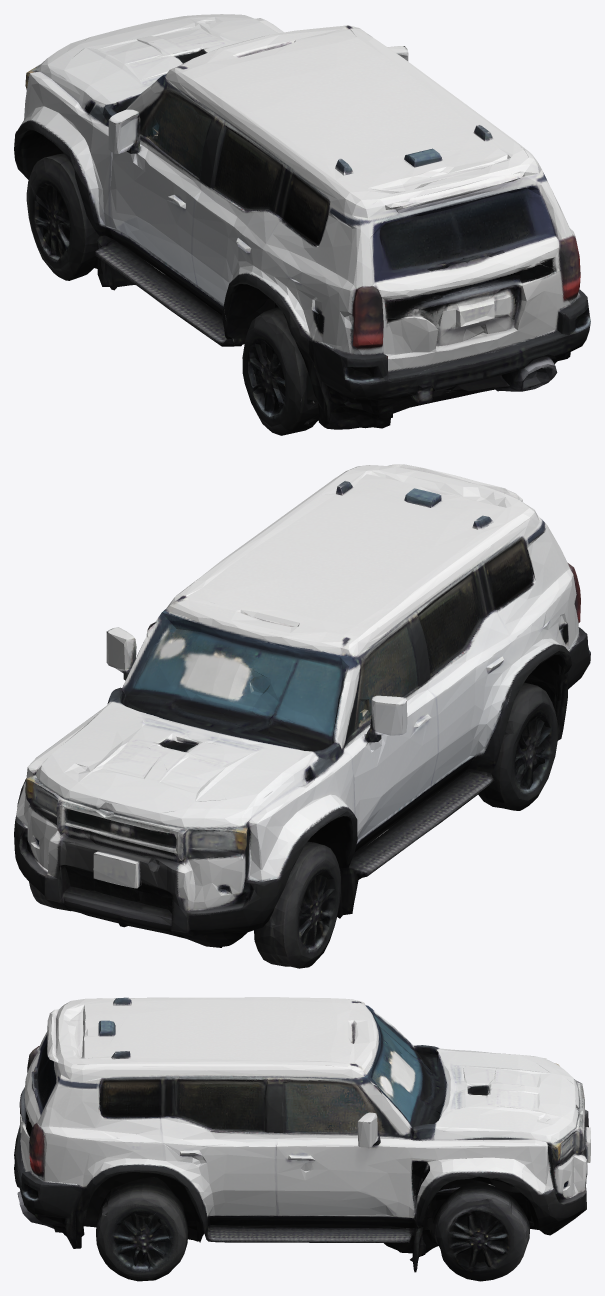
File: toyota-land-cruiser.glb
3 views of the same model, one above another, from view 1: azimuth 30°, elevation 25°; view 2: azimuth 150°, elevation 25°; view 3: azimuth 270°, elevation 25° (orthographic). The views are drawn at different scales.
Parts seen in each view (by area): view 1: world; view 2: world; view 3: world.
Part boxes in pixels (left/top/right/bottom): world: left=14, top=14, right=590, bottom=435; world: left=14, top=464, right=590, bottom=968; world: left=14, top=997, right=590, bottom=1281.
Bounding box in the file's own units: 0.4634 × 0.4009 × 0.9938.
1 material, 1 textured.
